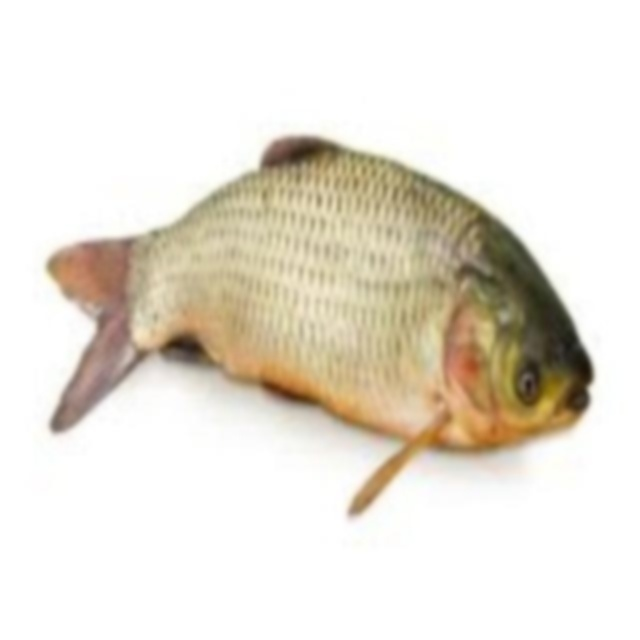Healthy Fish: (47, 127, 612, 516)
